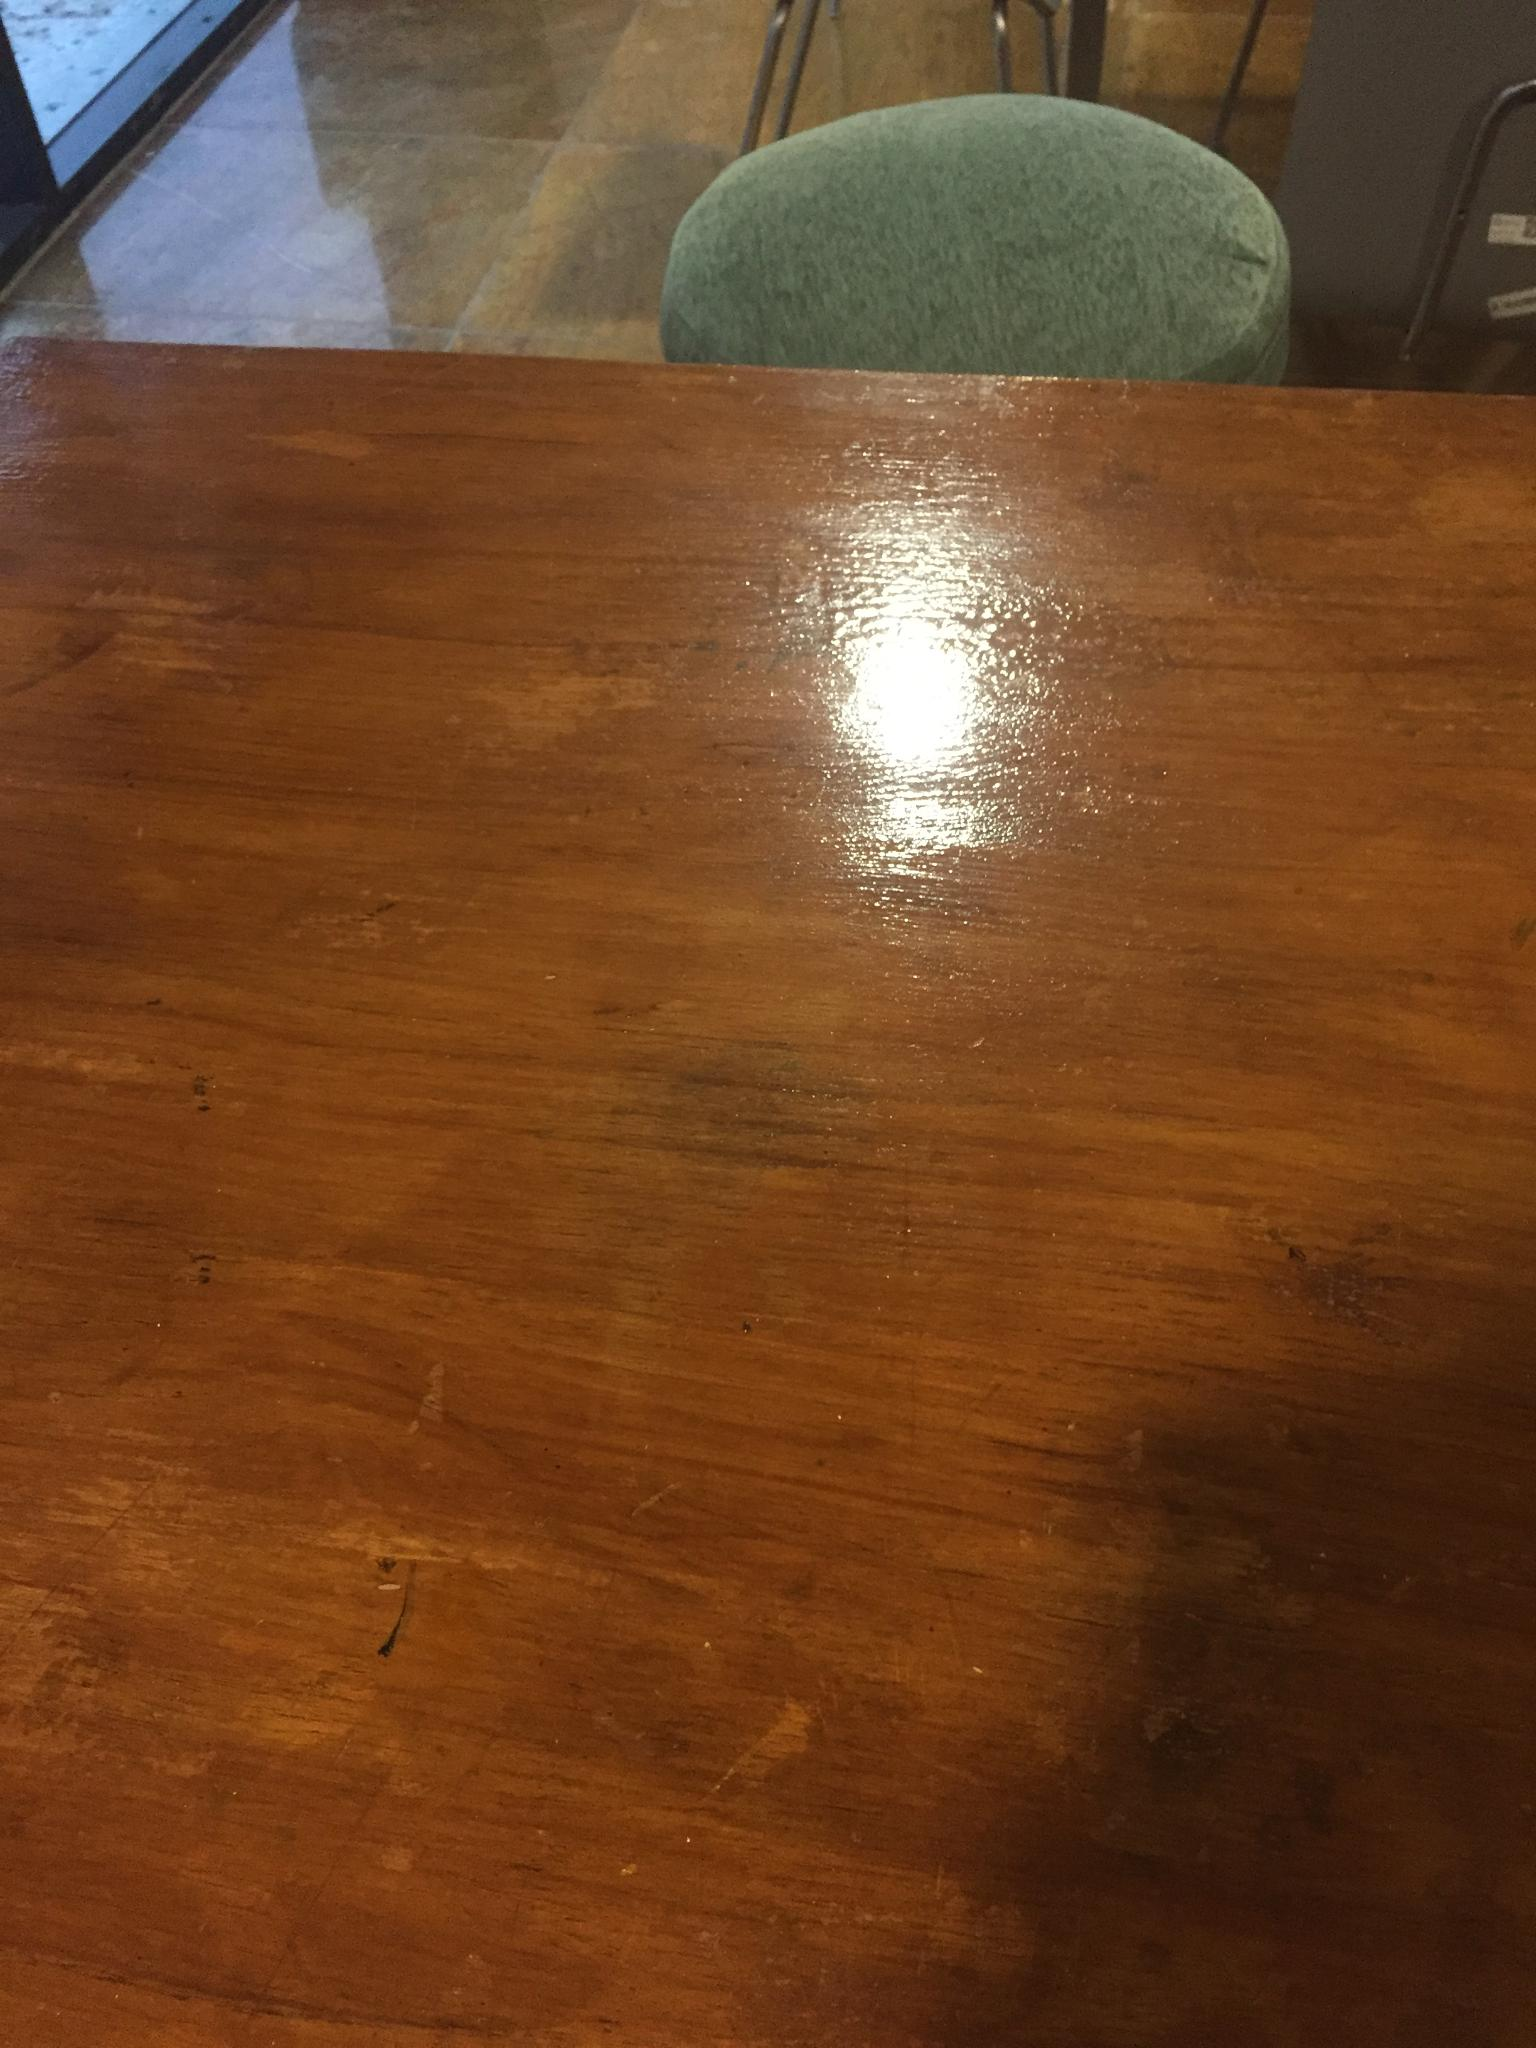chair: (658, 92, 1292, 384)
